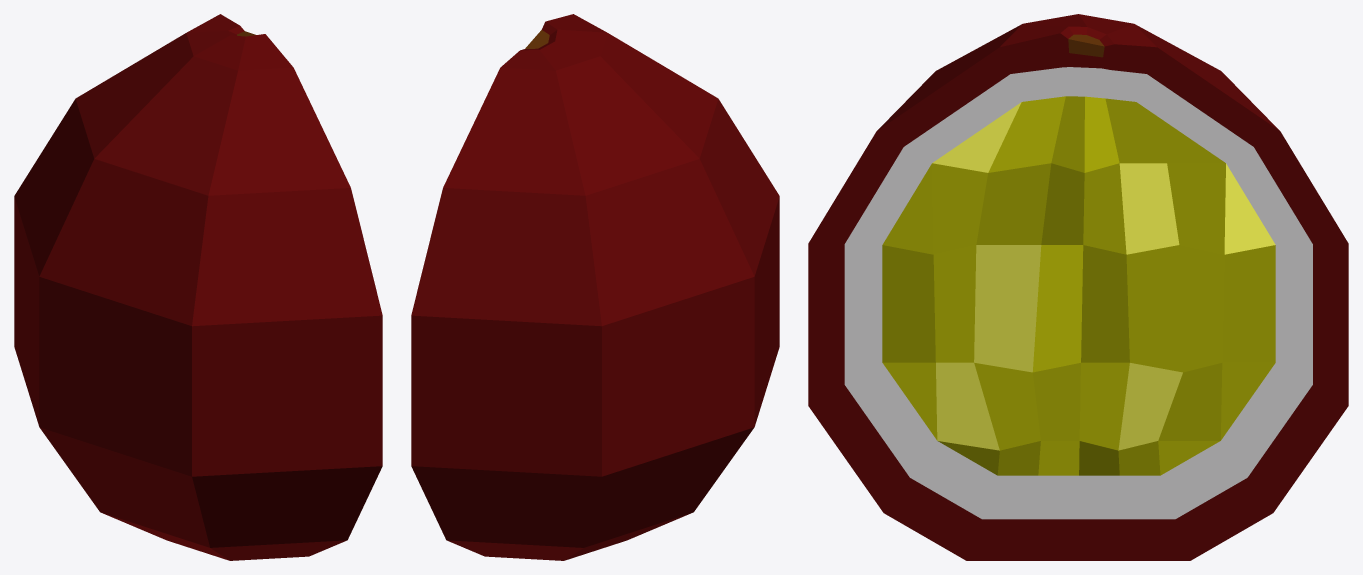
File: passionfruit02.obj
3 renders of one model, left to right at view 1: azimuth 30°, elevation 25°; view 2: azimuth 150°, elevation 25°; view 3: azimuth 270°, elevation 25°, orthographic. The views are drawn at different scales.
Visible parts, largest first — view 1: Cylinder; view 2: Cylinder; view 3: Cylinder.
Part boxes in pixels (x1,y1,x2,y2): Cylinder: (14, 14, 382, 560); Cylinder: (411, 14, 779, 560); Cylinder: (808, 14, 1348, 560).
Bounding box in the file's own units: 0.03 × 0.0596 × 0.0554.
1 material, 1 textured.
